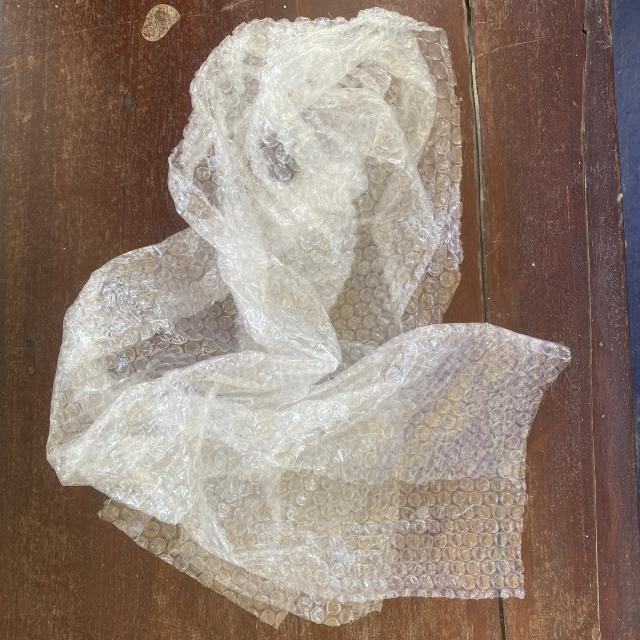Single-layer Plastic: (48, 9, 570, 625)
